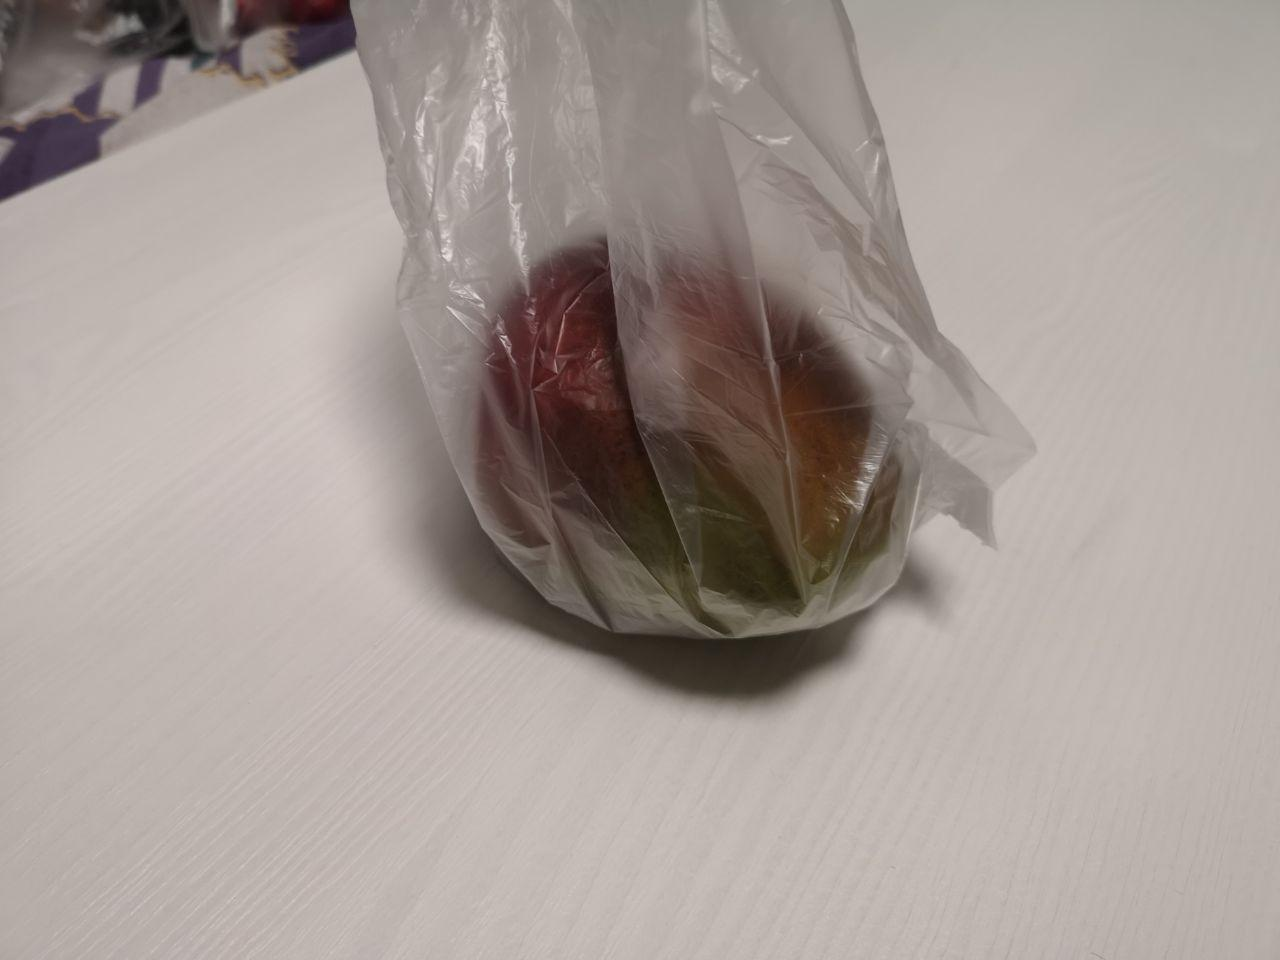mango: (396, 177, 983, 694)
